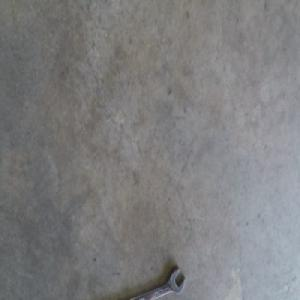Wrench: (130, 264, 186, 299)
